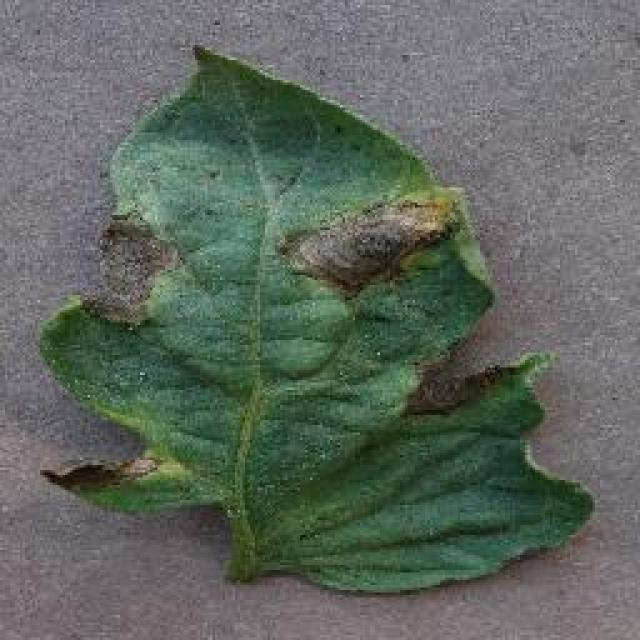Tomato___Early_blight: (31, 45, 597, 603)
